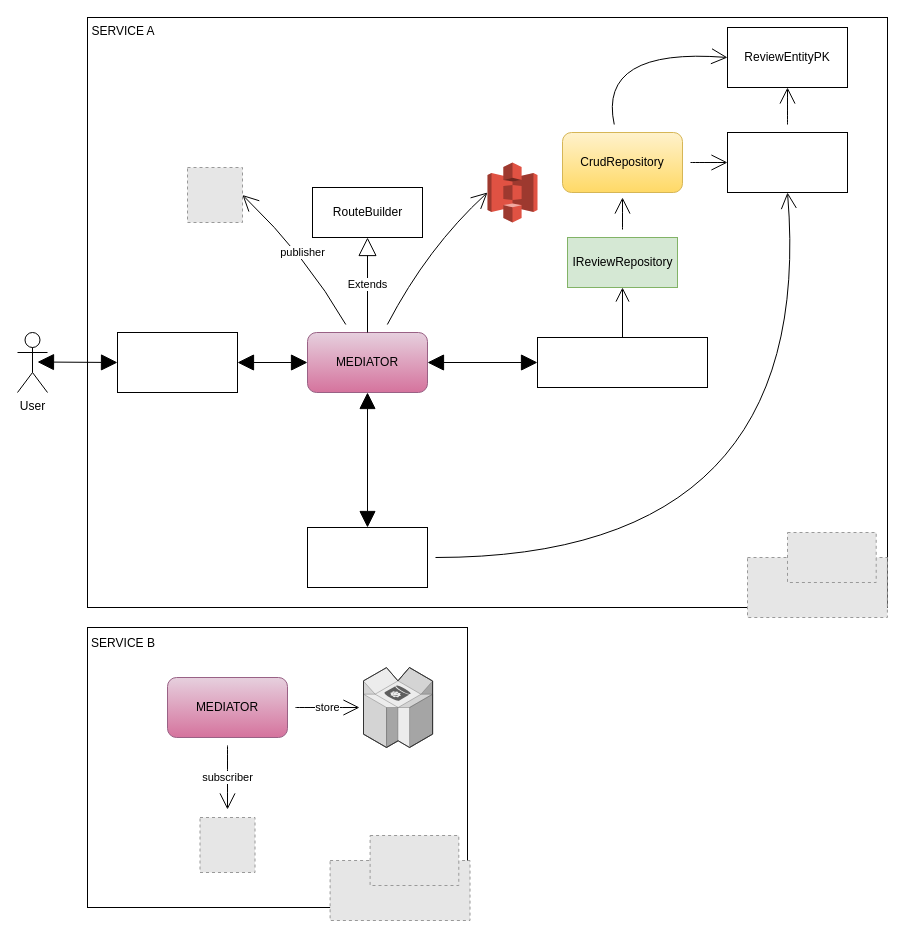
This 905x938 diagram has some shape labels left out. Grey dashed boxes stand in for pictures. Each missing label, with the box of its shape:
Controller: (116, 332, 238, 392)
ReviewDTO: (306, 526, 428, 588)
ReviewEntity: (726, 132, 848, 192)
ReviewRepositoryBean: (536, 336, 708, 388)
